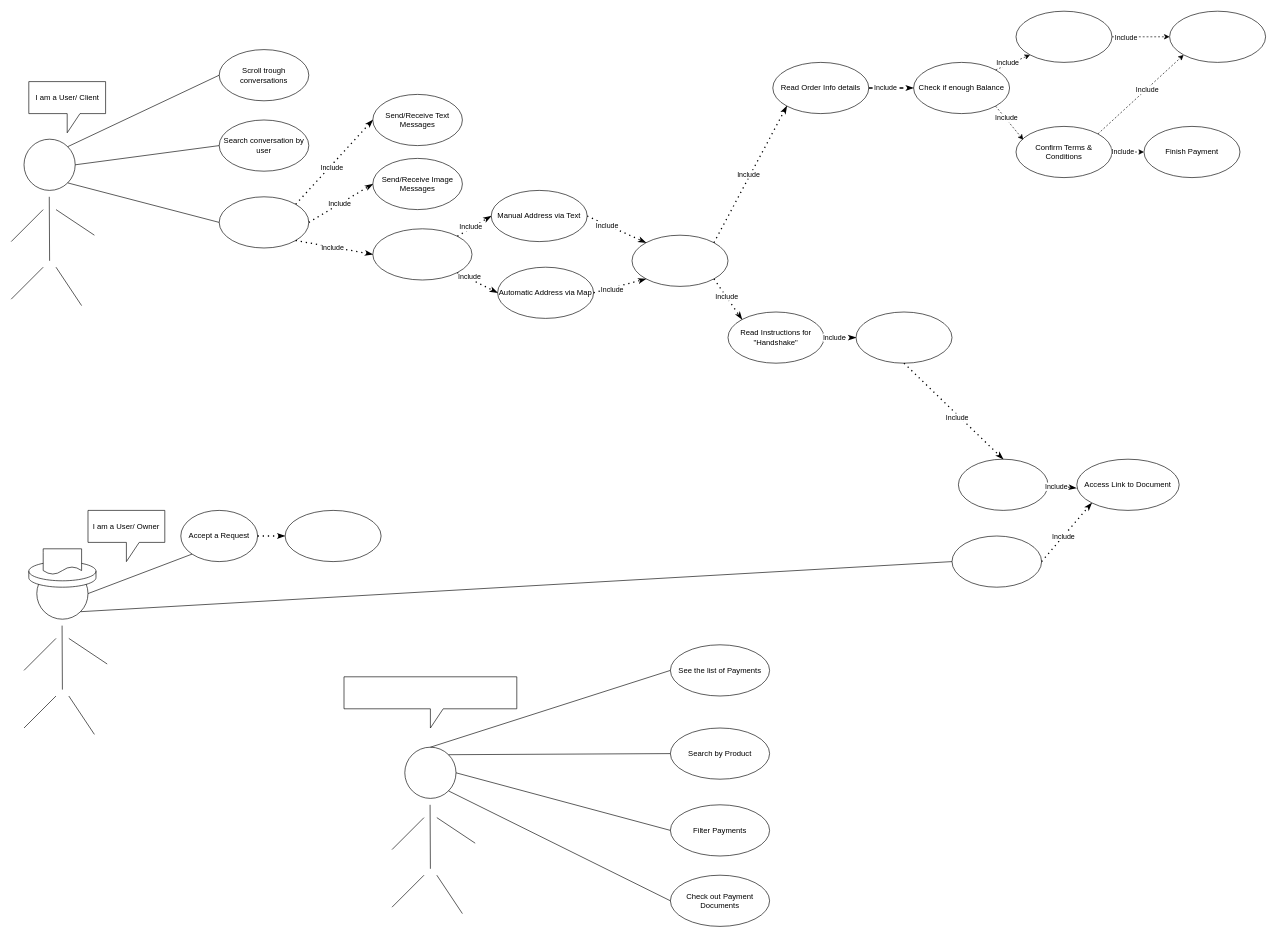
Some shapes in this 1277 by 938 pixel diagram are drawn without their labels. Here are the shapes that lost their labels. From the top down, the centre of each, then its label:
point (1063, 36): Not Enough Balance Warning
point (1217, 36): Exit Payment
point (264, 222): Open Conversation
point (422, 254): Go to Delivery/Payment By Request
point (679, 260): Choose Cash/Card
point (903, 337): Go to chat to confirm "Handshake"
point (1003, 484): Accept "Handshake" User
point (332, 536): Create The Request Confirmation Message
point (996, 561): Accept "Handshake" Owner
point (430, 702): I am a User intrested in my Payment Hystory
